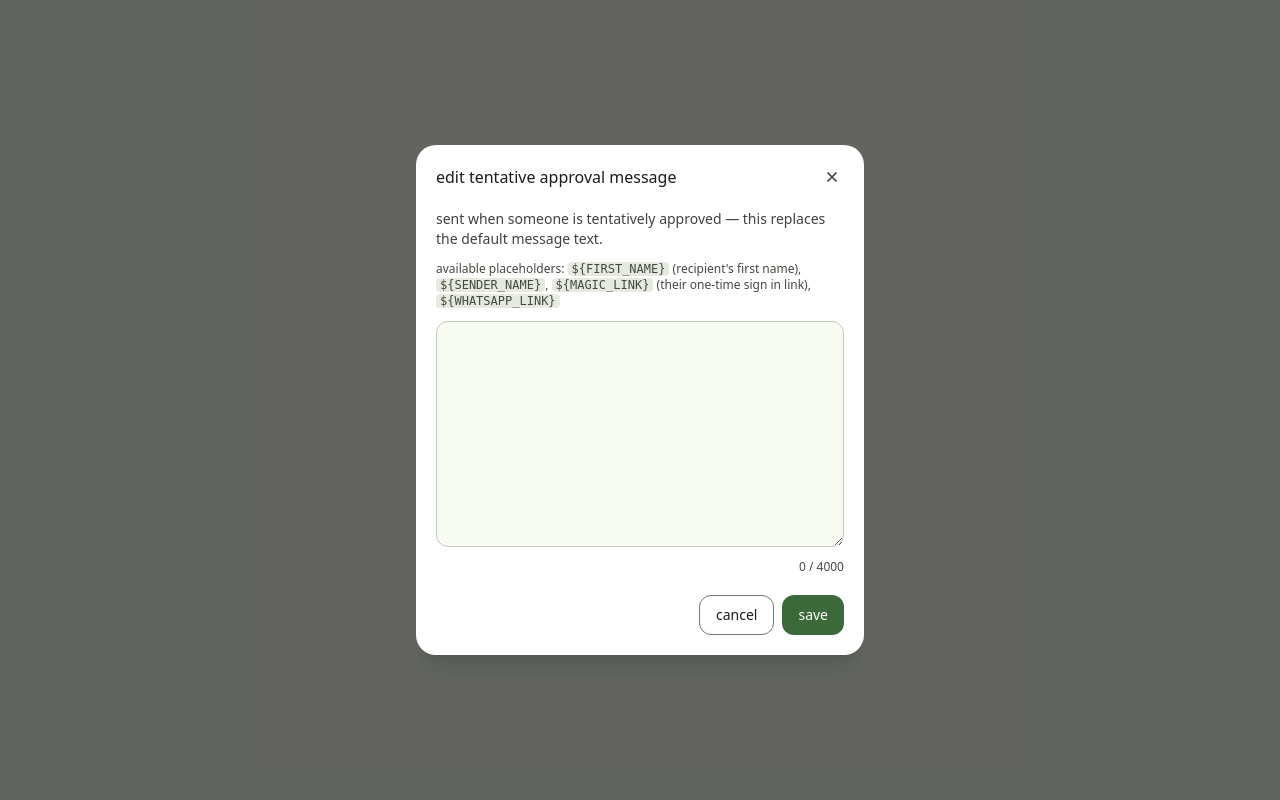
TentativeApprovalMessageEditorDialog › blocks save when body is empty
The width and height of the screenshot is (1280, 800).
What coordinates should you click on to do the following:
click the button "save"
I would click on:
 (813, 615)
Its box is 782,595 -> 844,635.
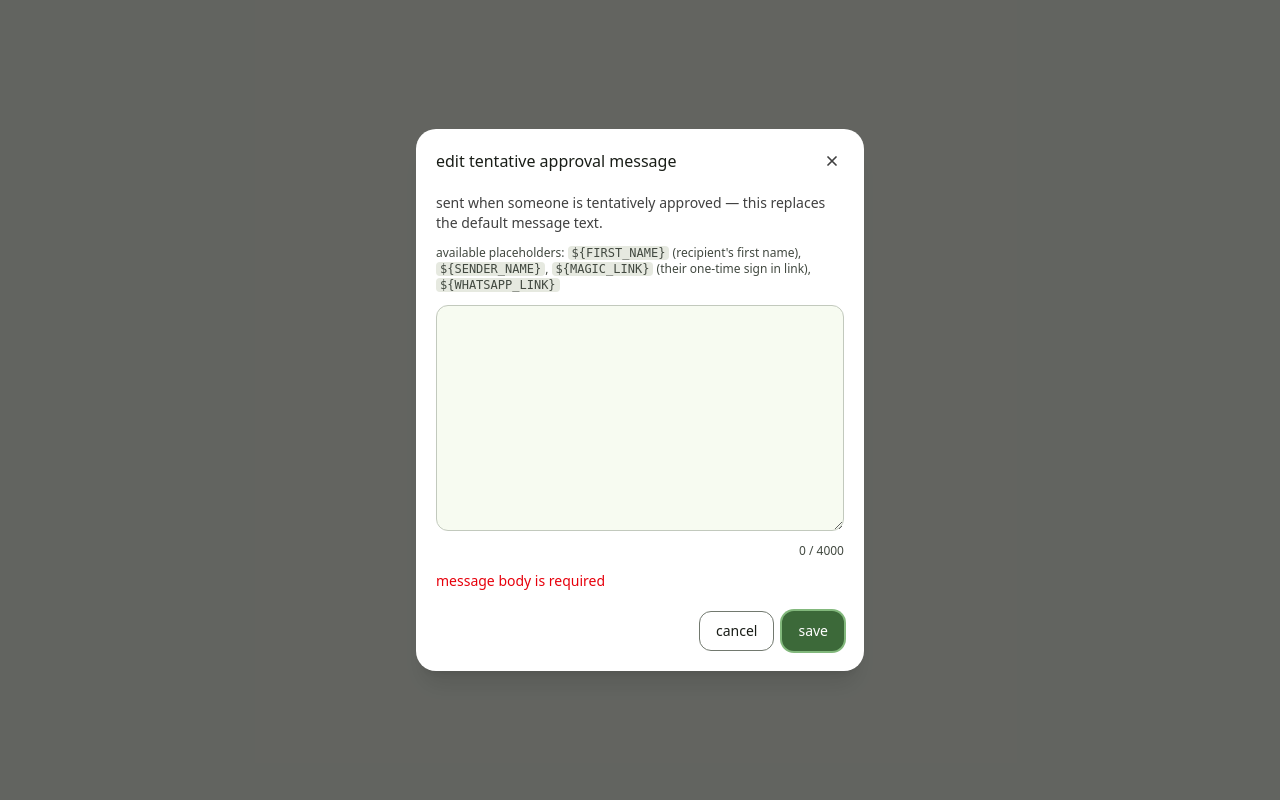
Check: the message reads "message body is required", box 436,571 -> 605,590
